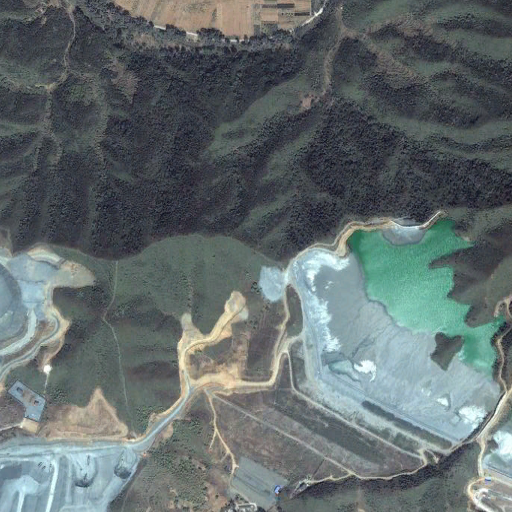tp: (262, 210, 508, 461)
